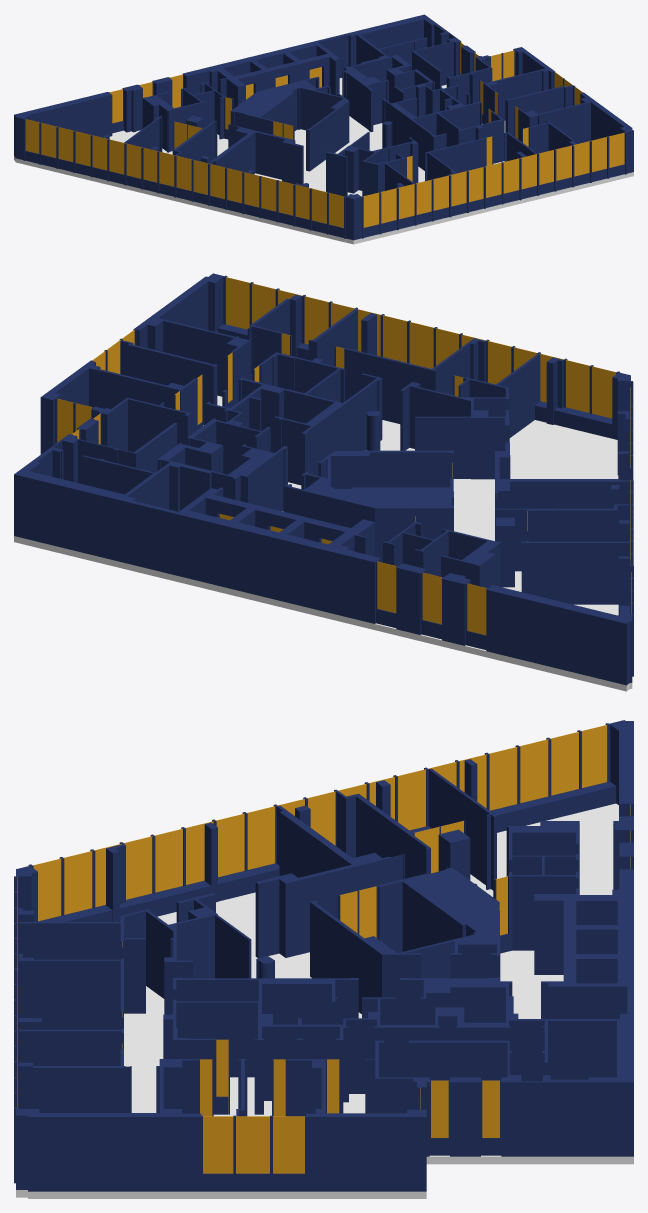
3 views of the same model, one above another, from view 1: azimuth 30°, elevation 25°; view 2: azimuth 150°, elevation 25°; view 3: azimuth 270°, elevation 25° (orthographic). The views are drawn at different scales.
Visible parts, largest first — view 1: Walls, Interior Member, Object_1; view 2: Walls, Interior Member, Object_1; view 3: Walls, Interior Member, Object_1.
Boxes of the visible parts, x1,y1,x2,y2 form: Walls: (14, 14, 633, 240); Interior Member: (25, 42, 624, 227); Object_1: (14, 78, 633, 244); Walls: (14, 273, 633, 685); Interior Member: (57, 277, 631, 635); Object_1: (14, 395, 632, 691); Walls: (14, 720, 633, 1191); Interior Member: (17, 725, 630, 1173); Object_1: (16, 803, 633, 1198).
Size of the model in its own units: 1373 by 906 by 132.
